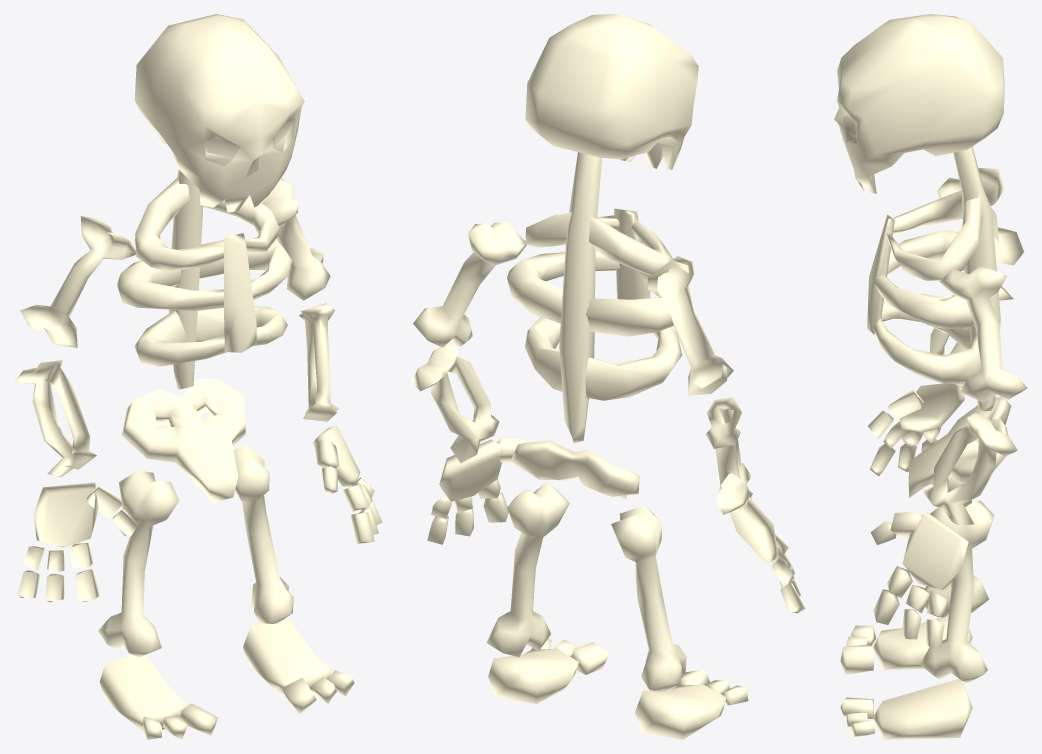
File: 1df28262-5906-4d25-a3c5-8fbf6fb20431.glb
3 renders of one model, left to right at view 1: azimuth 30°, elevation 25°; view 2: azimuth 150°, elevation 25°; view 3: azimuth 270°, elevation 25°, orthographic. The views are drawn at different scales.
Visible parts, largest first — view 1: Skellie02; view 2: Skellie02; view 3: Skellie02.
Boxes of the visible parts, <box> form: Skellie02: <box>14,14,382,739</box>; Skellie02: <box>411,14,805,739</box>; Skellie02: <box>834,14,1027,739</box>.
Size of what is drawn, in the model's own units: 0.9084 by 1.6 by 0.4174.
Materials: 1 (1 with a texture image).
